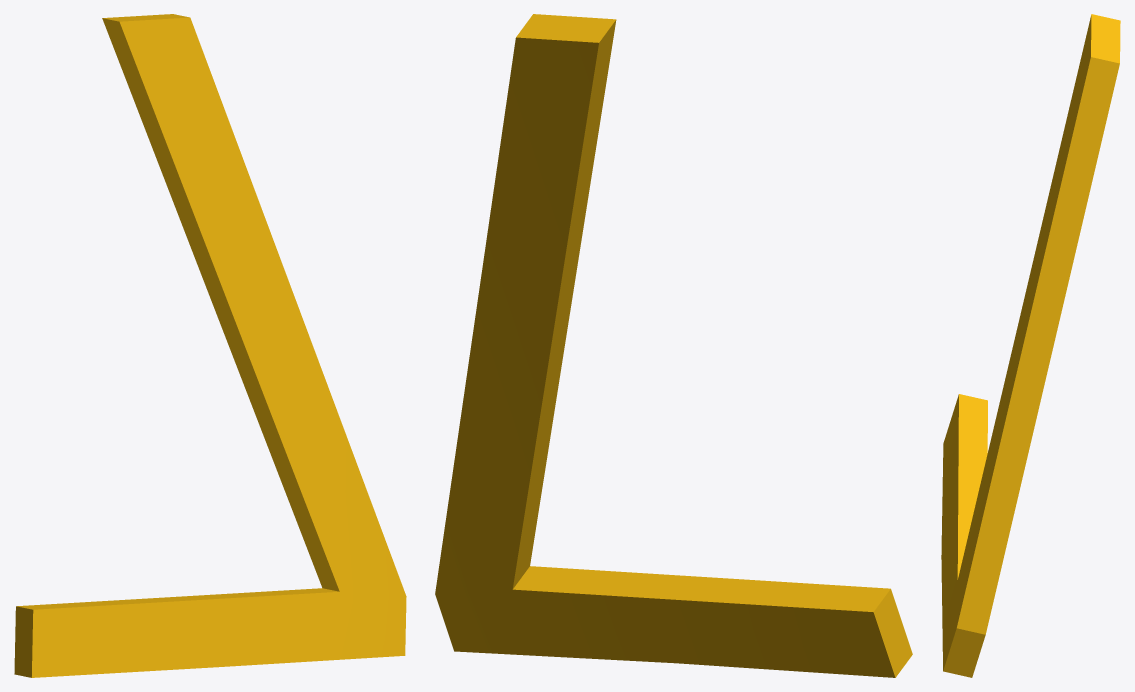
The model's file is Number_7.gltf.
The picture shows the model from 3 angles, left to right: view 1: azimuth 30°, elevation 25°; view 2: azimuth 150°, elevation 25°; view 3: azimuth 270°, elevation 25°; orthographic projection. The views are drawn at different scales.
Visible parts, largest first — view 1: Sub_6_Cell_3_3_Number_7; view 2: Sub_6_Cell_3_3_Number_7; view 3: Sub_6_Cell_3_3_Number_7.
Part boxes in pixels (x1,y1,x2,y2): Sub_6_Cell_3_3_Number_7: (14,14,406,677); Sub_6_Cell_3_3_Number_7: (435,14,912,677); Sub_6_Cell_3_3_Number_7: (941,14,1120,677).
Size of the model in its own units: 0.0169 by 0.0267 by 0.00755.
